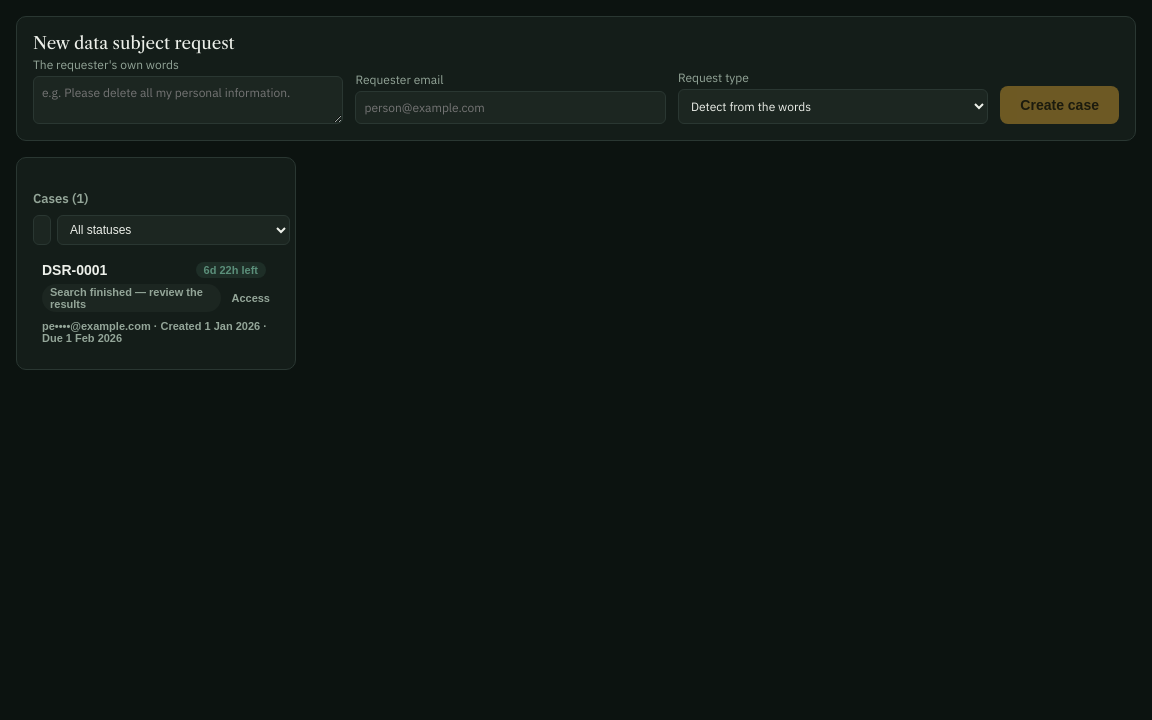
Test case: DsrDashboard: a request whose type is unclear can be set and then continue › a type a person already chose is not asked again
Expected: the text "DSR-0001" is shown, [42,262,107,278]
Click the button "DSR-0001" at (156,303), box [33,253,279,353]
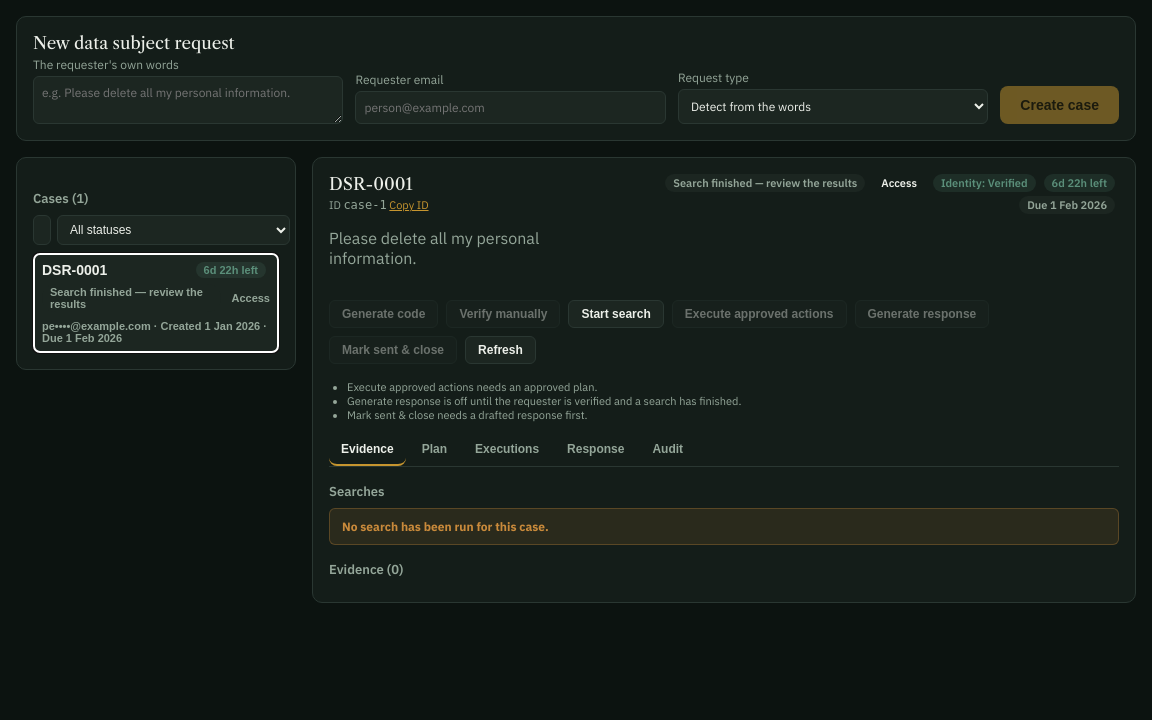
Result: the heading "DSR-0001" is shown at [329,174,413,194]
